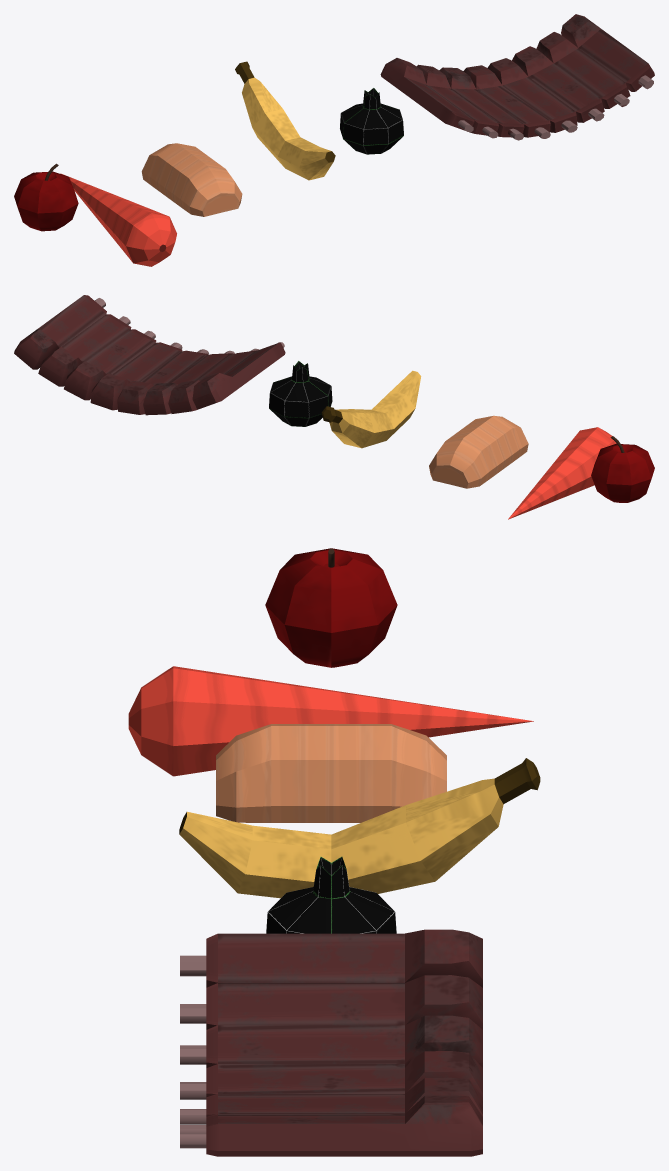
The model's file is Food.FBX.
3 views of the same model, one above another, from view 1: azimuth 30°, elevation 25°; view 2: azimuth 150°, elevation 25°; view 3: azimuth 270°, elevation 25° (orthographic). The views are drawn at different scales.
Parts seen in each view (by area): view 1: RackO_Ribs01, Bread01, Carrot01, pCylinder2, pCylinder1, Onion01; view 2: RackO_Ribs01, Bread01, pCylinder2, Carrot01, pCylinder1, Onion01; view 3: RackO_Ribs01, pCylinder2, Bread01, Carrot01, pCylinder1, Onion01.
Part boxes in pixels (bbox=[...]): RackO_Ribs01: bbox=[380, 14, 654, 140]; Bread01: bbox=[141, 143, 242, 216]; Carrot01: bbox=[60, 173, 176, 266]; pCylinder2: bbox=[235, 61, 335, 180]; pCylinder1: bbox=[14, 163, 78, 231]; Onion01: bbox=[340, 88, 403, 154]; RackO_Ribs01: bbox=[14, 295, 285, 415]; Bread01: bbox=[429, 415, 528, 488]; pCylinder2: bbox=[321, 370, 421, 448]; Carrot01: bbox=[508, 427, 616, 519]; pCylinder1: bbox=[591, 436, 654, 502]; Onion01: bbox=[269, 361, 332, 426]; RackO_Ribs01: bbox=[180, 929, 482, 1156]; pCylinder2: bbox=[179, 758, 540, 898]; Bread01: bbox=[216, 724, 446, 822]; Carrot01: bbox=[128, 666, 533, 776]; pCylinder1: bbox=[265, 548, 397, 667]; Onion01: bbox=[266, 856, 396, 933].
Size of the model in its own units: 9.08 by 1.36 by 2.69.
